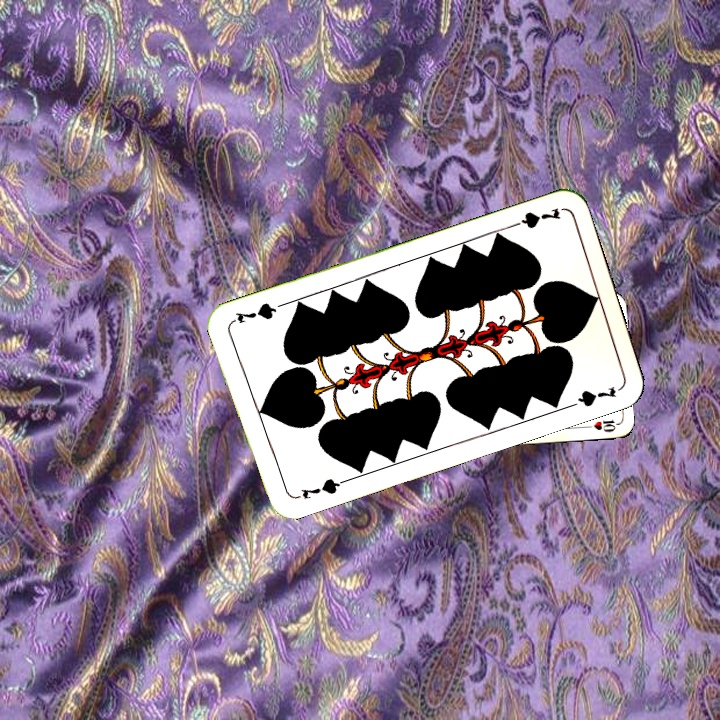G7: (504, 203, 563, 231), (289, 474, 347, 502)
